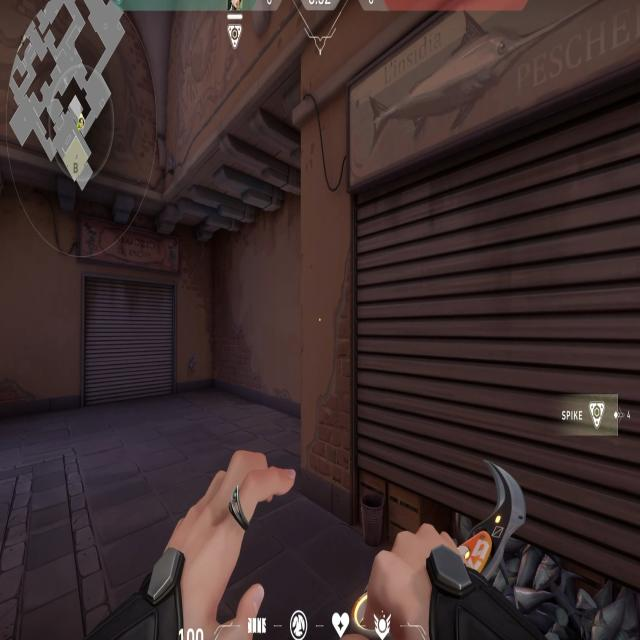B_Main_Corner: (270, 22, 635, 592)
